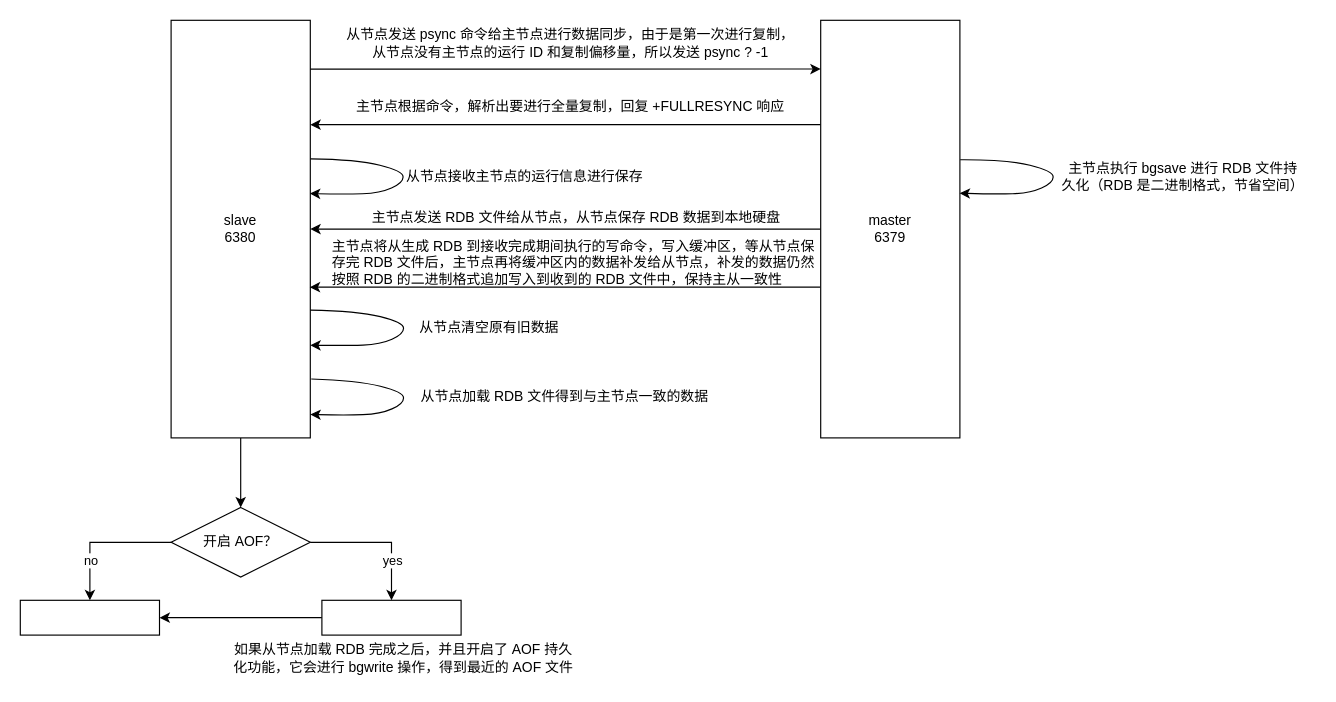
This 1336x702 diagram has some shape labels left out. Here are the shapes that lost their labels. From the top down, the centre of each, then its label:
At point 89,617: "完成".
At point 391,617: "bgrewriteaof".
